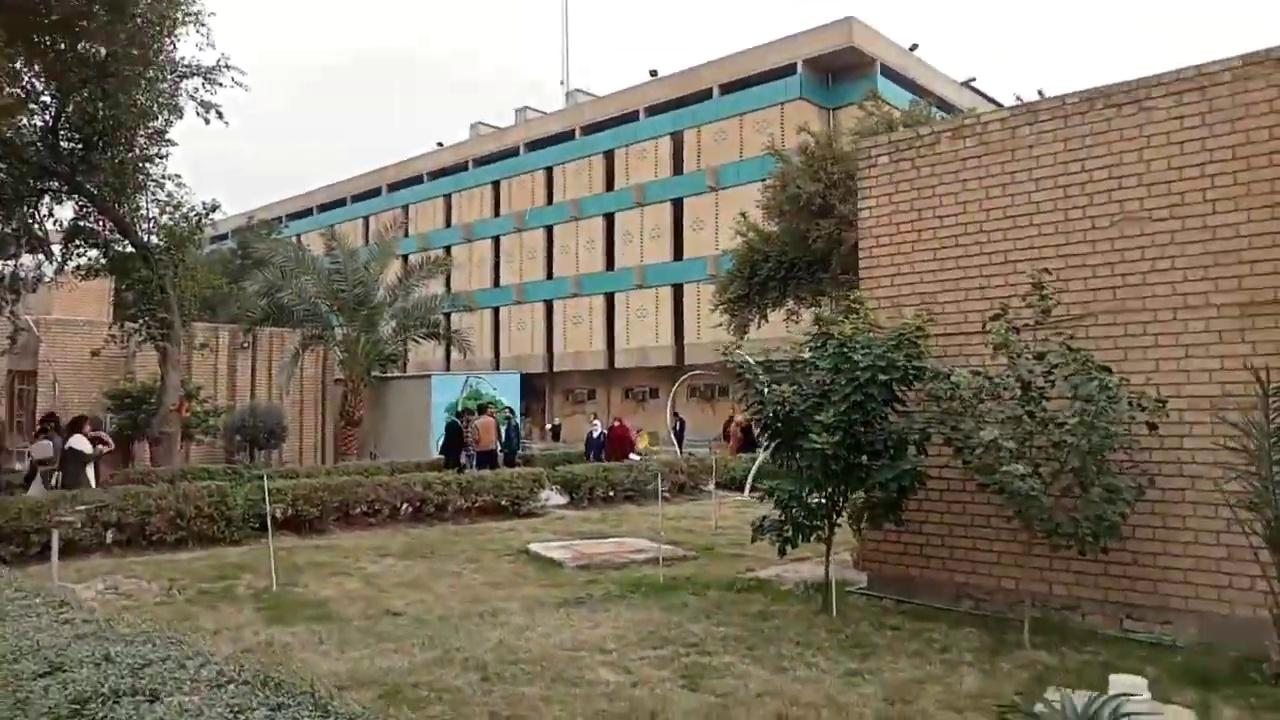person: (60, 413, 114, 490), (22, 428, 54, 496), (604, 416, 634, 461), (729, 412, 756, 455), (583, 419, 607, 462), (671, 410, 685, 457), (722, 406, 736, 443), (546, 416, 562, 442)
tree: (705, 90, 1168, 616), (0, 0, 249, 471), (717, 288, 949, 618), (915, 265, 1169, 558), (706, 88, 950, 344), (233, 216, 473, 464), (87, 201, 235, 468), (191, 219, 292, 463), (1208, 359, 1279, 682), (100, 370, 223, 469), (99, 372, 160, 470), (442, 373, 511, 423)
